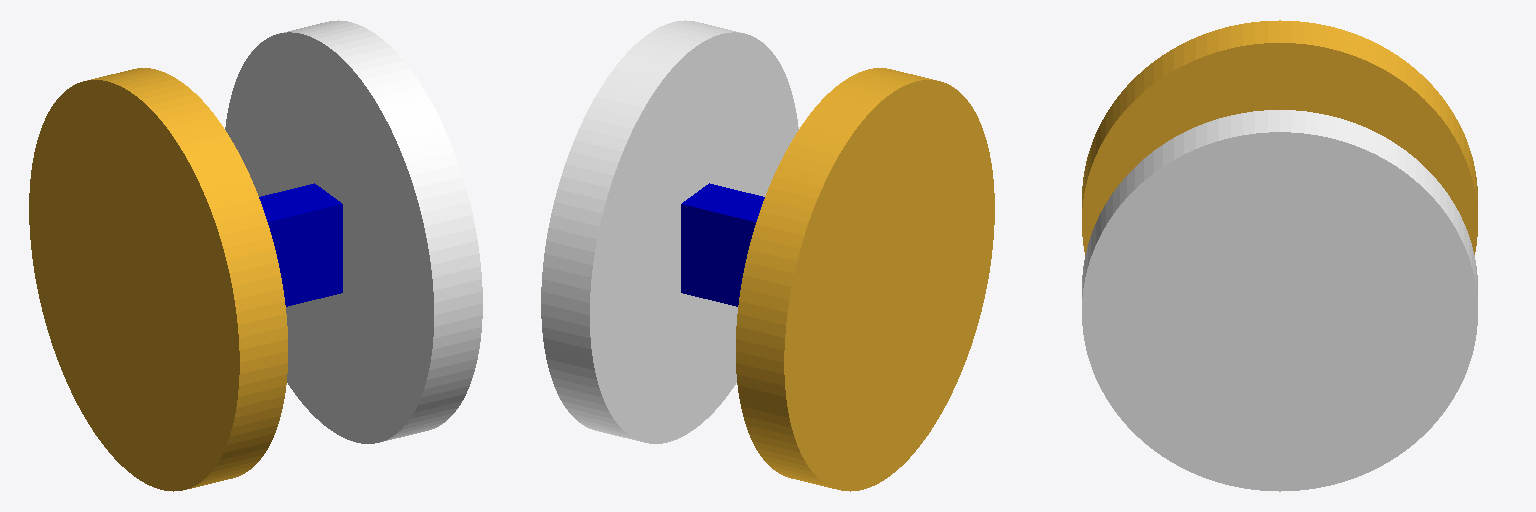
The robot description file, URDF, robot "denge1":
<?xml version="1.0"?>
<robot name="denge1">

<material name="blue">
    <color rgba="0 0 0.8 1"/>
  </material>
<material name="orange">
    <color rgba="0.972 0.746 0.23 1"/>
  </material>
  <material name="black">
    <color rgba="0 0 0 1"/>
  </material>
  <material name="white">
    <color rgba="1 1 1 1"/>
  </material>

  <link name="govde_link">
    <visual>
      <geometry>
        <mesh filename="govde_.stl"/>
      </geometry>
        <origin rpy="0 0 0" xyz="0 0 1.5"/>
        <material name="blue"/>
    </visual>
    <collision>
      <geometry>
        <mesh filename="govde_.stl"/>
      </geometry>
        <origin rpy="0 0 0" xyz="0 0 1.5"/>
    </collision>
    <inertial>
      <mass value="10"/>
      <inertia ixx="1e-3" ixy="0.0" ixz="0.0" iyy="1e-3" iyz="0.0" izz="1e-3"/>
    </inertial>
  </link>

  <link name="tekerlek_link_1">
    <visual>
      <geometry>
        <mesh filename="tekerlek_.stl"/>
      </geometry>
        <origin rpy="0 0 0" xyz="0 0 1.5"/>
        <material name="orange"/>
    </visual>
    <collision>
      <geometry>
        <mesh filename="tekerlek_.stl"/>
      </geometry>
        <origin rpy="0 0 0" xyz="0 0 1.5"/>
    </collision>
    <inertial>
      <mass value="10"/>
      <inertia ixx="1e-3" ixy="0.0" ixz="0.0" iyy="1e-3" iyz="0.0" izz="1e-3"/>
    </inertial>
  </link>

  <joint name="govde_to_tekerlek_1" type="revolute">
    <parent link="govde_link"/>
    <child link="tekerlek_link_1"/>
    <limit effort="1000.0" lower="0.0" upper="0.548" velocity="0.5"/>
    <origin xyz="-0.8 0 0"/>
    <axis xyz="1 0 0 "/>
  </joint>

  <link name="tekerlek_link_2">
    <visual>
      <geometry>
        <mesh filename="tekerlek_.stl"/>
      </geometry>
        <origin rpy="0 0 0" xyz="0 0 1.5"/>
        <material name="white"/>
    </visual>
    <collision>
      <geometry>
        <mesh filename="tekerlek_.stl"/>
      </geometry>
        <origin rpy="0 0 0" xyz="0 0 1.5"/>
    </collision>
    <inertial>
      <mass value="10"/>
      <inertia ixx="1e-3" ixy="0.0" ixz="0.0" iyy="1e-3" iyz="0.0" izz="1e-3"/>
    </inertial>
  </link>

  <joint name="govde_to_tekerlek_2" type="revolute">
    <parent link="govde_link"/>
    <child link="tekerlek_link_2"/>
    <origin xyz="0.8 0 0"/>
    <axis xyz="1 0 0 "/>
    <limit effort="1000.0" lower="0.0" upper="0.548" velocity="0.5"/>
  </joint>

</robot>

--- Facts derived from the render (not from the file) ---
The picture shows the robot from 3 angles, left to right: view 1: azimuth 30°, elevation 25°; view 2: azimuth 150°, elevation 25°; view 3: azimuth 270°, elevation 25°; orthographic projection.
Robot: denge1 — 3 links, 2 joints (2 revolute); root link govde_link; default pose: all joints at 0.
Visible links, largest first — view 1: tekerlek_link_1, tekerlek_link_2, govde_link; view 2: tekerlek_link_1, tekerlek_link_2, govde_link; view 3: tekerlek_link_2, tekerlek_link_1.
Boxes of the visible links, x1=… form: tekerlek_link_1: x1=29, y1=68, x2=287, y2=491; tekerlek_link_2: x1=225, y1=20, x2=482, y2=443; govde_link: x1=259, y1=183, x2=342, y2=306; tekerlek_link_1: x1=736, y1=68, x2=994, y2=491; tekerlek_link_2: x1=541, y1=20, x2=798, y2=443; govde_link: x1=681, y1=183, x2=764, y2=306; tekerlek_link_2: x1=1082, y1=110, x2=1477, y2=491; tekerlek_link_1: x1=1082, y1=20, x2=1477, y2=254.
Bounding box of the posed robot: 2 × 3 × 3 m (x, y, z).
Meshes: 2 distinct files referenced, 3 mesh visuals loaded (2 binary STL).